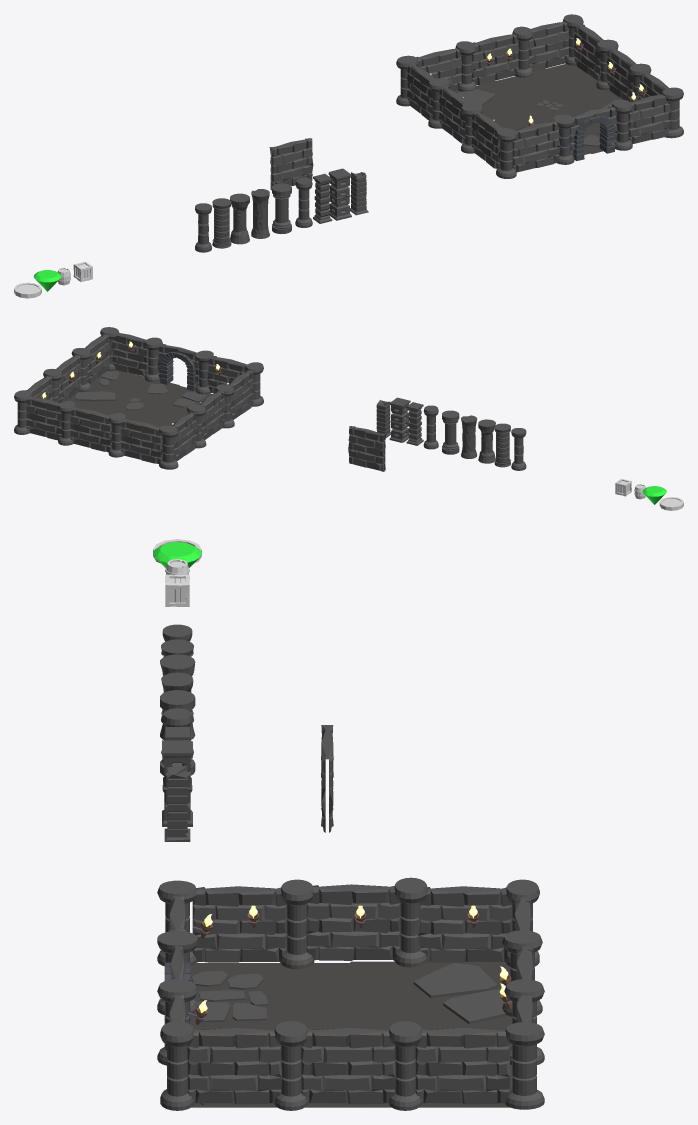
Rendered from FloorDungeon.fbx.
The picture shows the model from 3 angles, top to bottom: view 1: azimuth 30°, elevation 25°; view 2: azimuth 150°, elevation 25°; view 3: azimuth 270°, elevation 25°; orthographic projection. The views are drawn at different scales.
Parts seen in each view (by area): view 1: Plane.003, CircularPilar.003, CircularPilar.014, CircularPilar.010, CircularPilar.007, CircularPilar.015, CircularPilar.013, Plane.002, CircularPilar.008, Plane, CircularPilar.009, CircularPilar.011 (+13 smaller); view 2: Plane.004, CircularPilar.013, CircularPilar.014, CircularPilar.010, CircularPilar.015, CircularPilar.007, CircularPilar.011, Plane, Cube.010, CircularPilar.003, CircularPilar.008, CircularPilar.009 (+13 smaller); view 3: Plane.002, Cube.010, CircularPilar.006, CircularPilar.004, CircularPilar.005, CircularPilar.009, CircularPilar.008, CircularPilar.011, CircularPilar.015, CircularPilar.007, CircularPilar.003, CircularPilar.013 (+6 smaller).
Boxes of the visible parts, x1,y1,x2,y2 form: Plane.003: (493,64,621,117); CircularPilar.003: (496,120,560,178); CircularPilar.014: (472,26,533,85); CircularPilar.010: (612,94,671,150); CircularPilar.007: (553,107,617,164); CircularPilar.015: (529,14,583,71); CircularPilar.013: (416,41,476,91); Plane.002: (442,82,541,136); CircularPilar.008: (461,103,502,168); Plane: (269,138,313,190); CircularPilar.009: (428,78,470,143); CircularPilar.011: (396,55,434,120); Plane.004: (69,370,179,416); CircularPilar.013: (108,413,162,463); CircularPilar.014: (58,401,112,452); CircularPilar.010: (110,333,162,381); CircularPilar.015: (14,390,61,440); CircularPilar.007: (157,344,213,394); CircularPilar.011: (159,412,197,469); Plane: (348,426,386,471); Cube.010: (137,386,212,425); CircularPilar.003: (207,356,263,406); CircularPilar.008: (215,370,254,428); CircularPilar.009: (187,390,225,448); Plane.002: (350,961,512,1030); Cube.010: (190,963,350,1030); CircularPilar.006: (388,1021,509,1110); CircularPilar.004: (160,1021,281,1110); CircularPilar.005: (274,1021,395,1110); CircularPilar.009: (306,877,427,967); CircularPilar.008: (192,879,314,969); CircularPilar.011: (418,879,539,966); CircularPilar.015: (505,995,544,1109); CircularPilar.007: (157,931,197,1046); CircularPilar.003: (157,880,196,966); CircularPilar.013: (502,897,542,1016).
Size of the model in its own units: 6613 by 465 by 1930.
